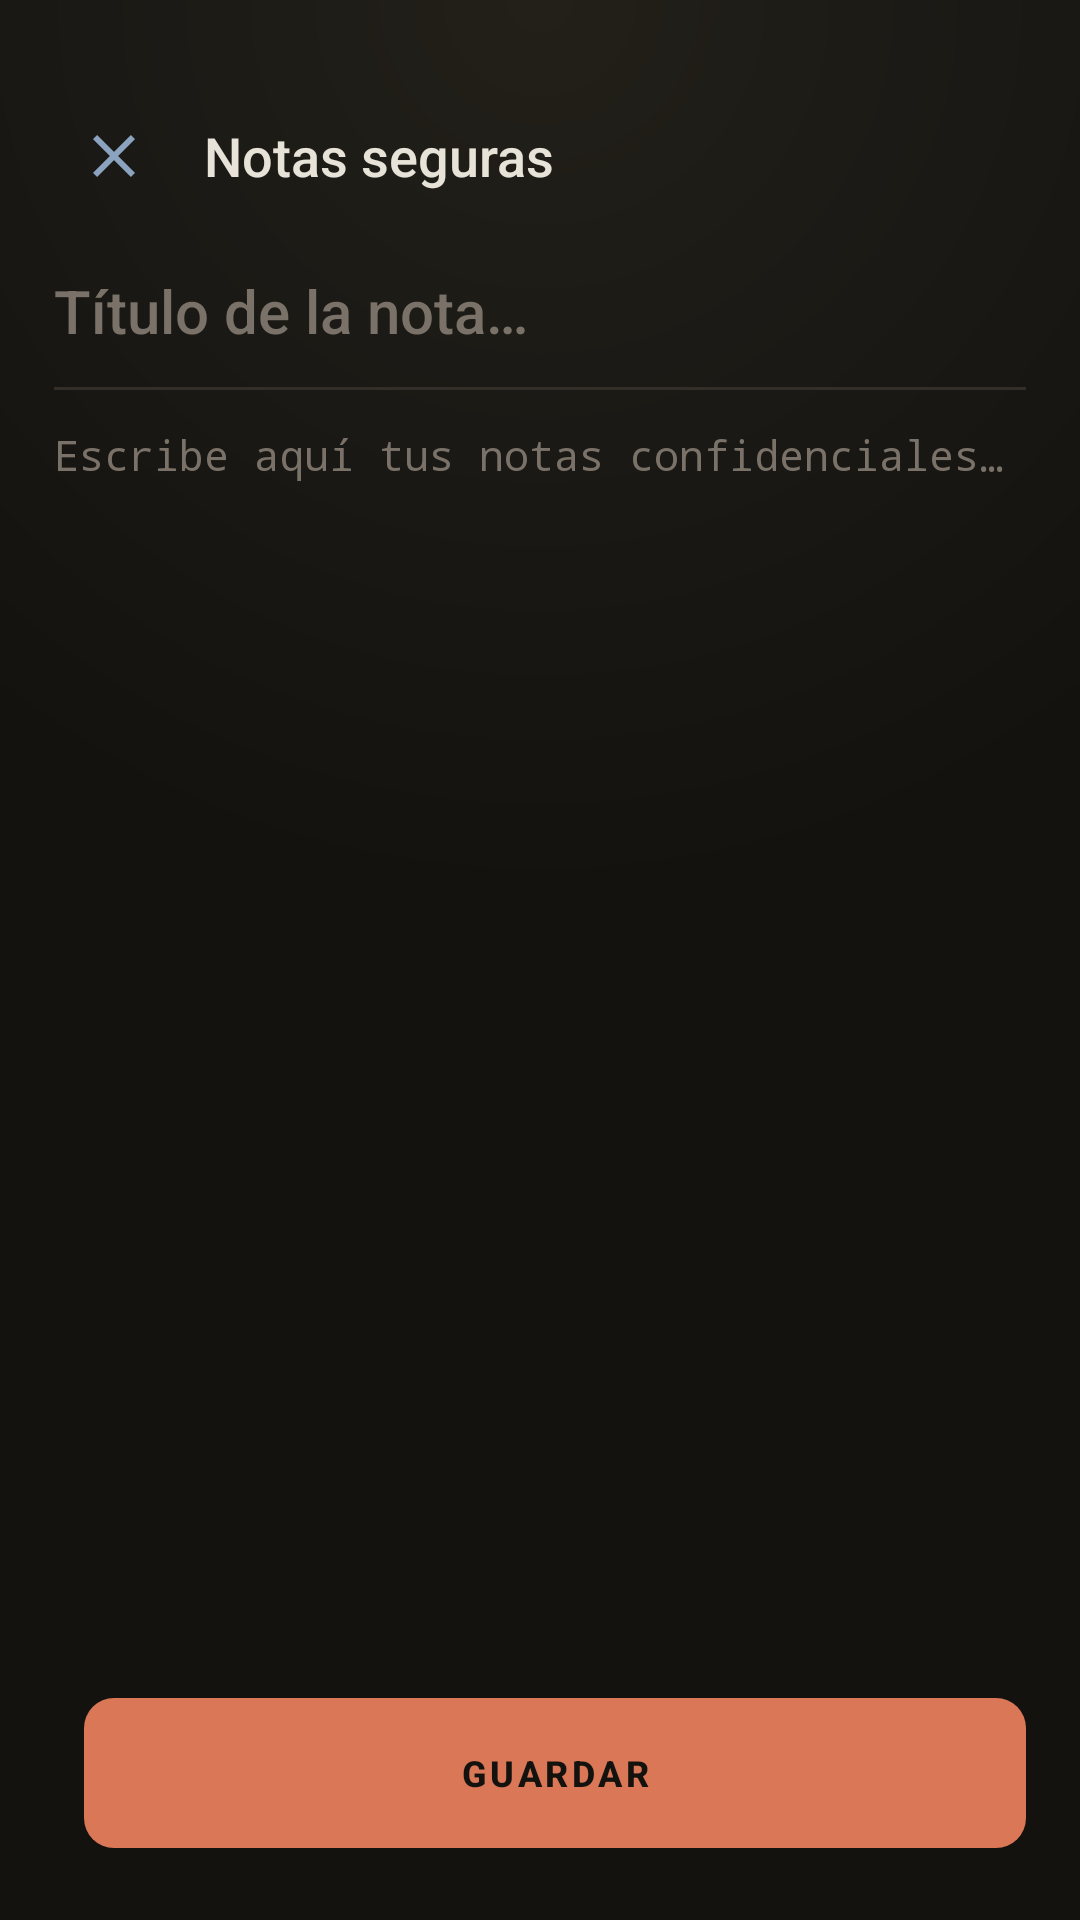

Screen size 1080 x 1920. Icon name, then its center in pixels as point (x, y):
Volver: point (114, 156)
